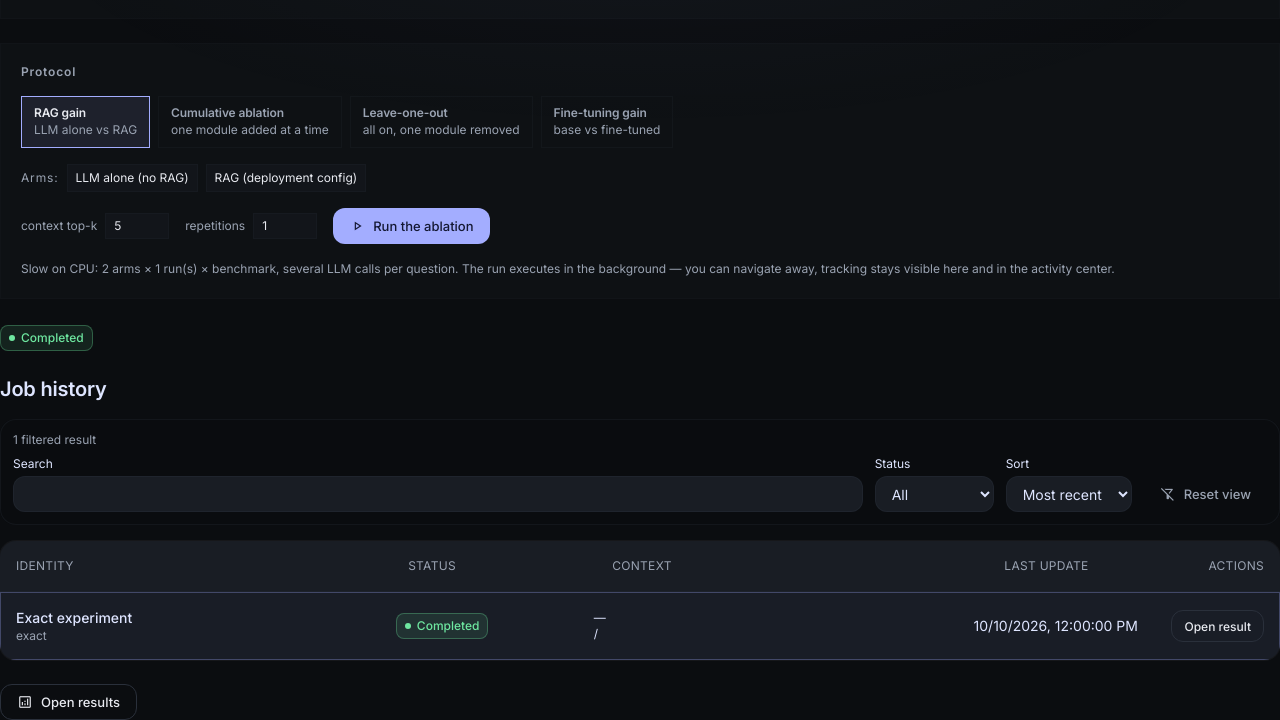
Test: keeps a restored historical result available without opening a panel automatically
(page scrolled)
Click the button "Open results": {"x": 68, "y": 702} [0,684,137,719]
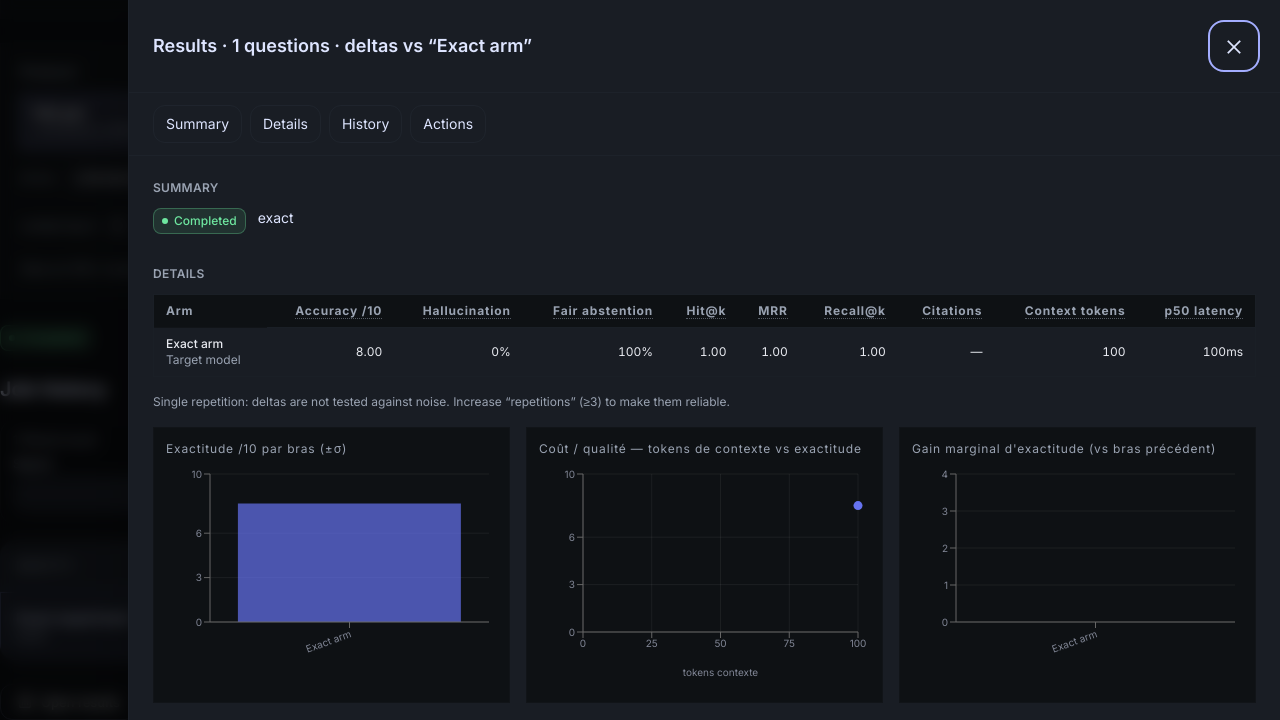
Expected: the dialog is shown
